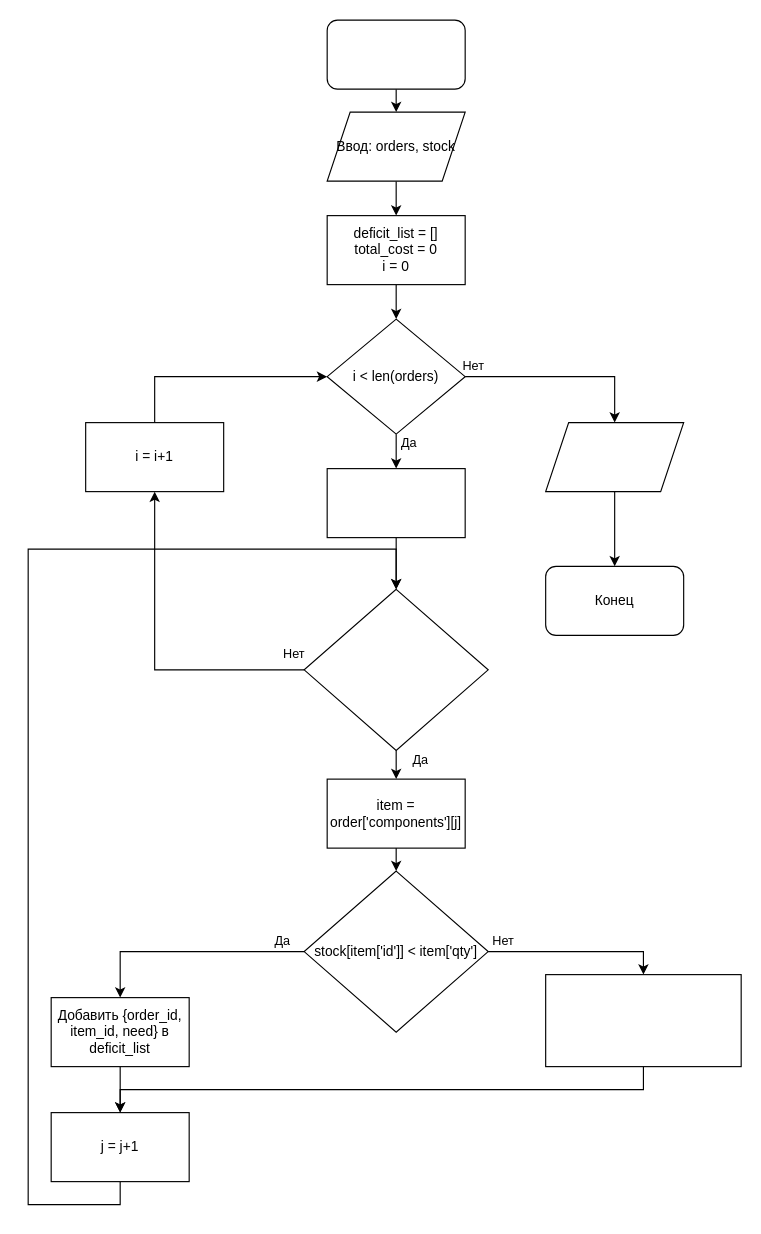
The diagram is 761 pixels wide and 1234 high, and some of its shapes have lost their labels. Here are the shapes that lost their labels. From the top down, the centre of each, then its label:
the point at 395,54: Начало
the point at 614,456: deficit_list, total_cost
the point at 395,502: order = orders[i] j = 0
the point at 395,669: j < len(order['components'])
the point at 643,1020: stock[item['id']] -= item['qty'] total_cost += item['qty'] * item['price']
